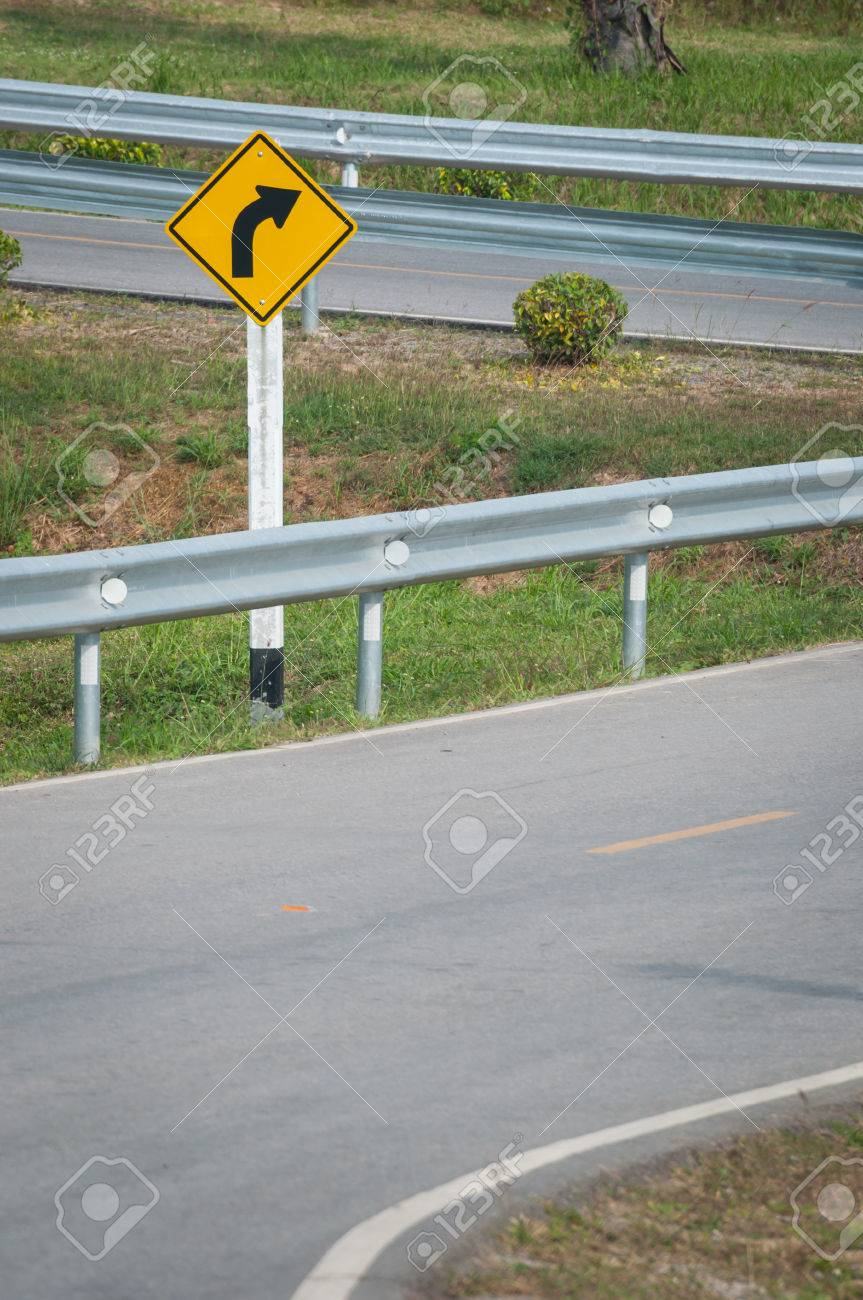right: (158, 121, 367, 336)
